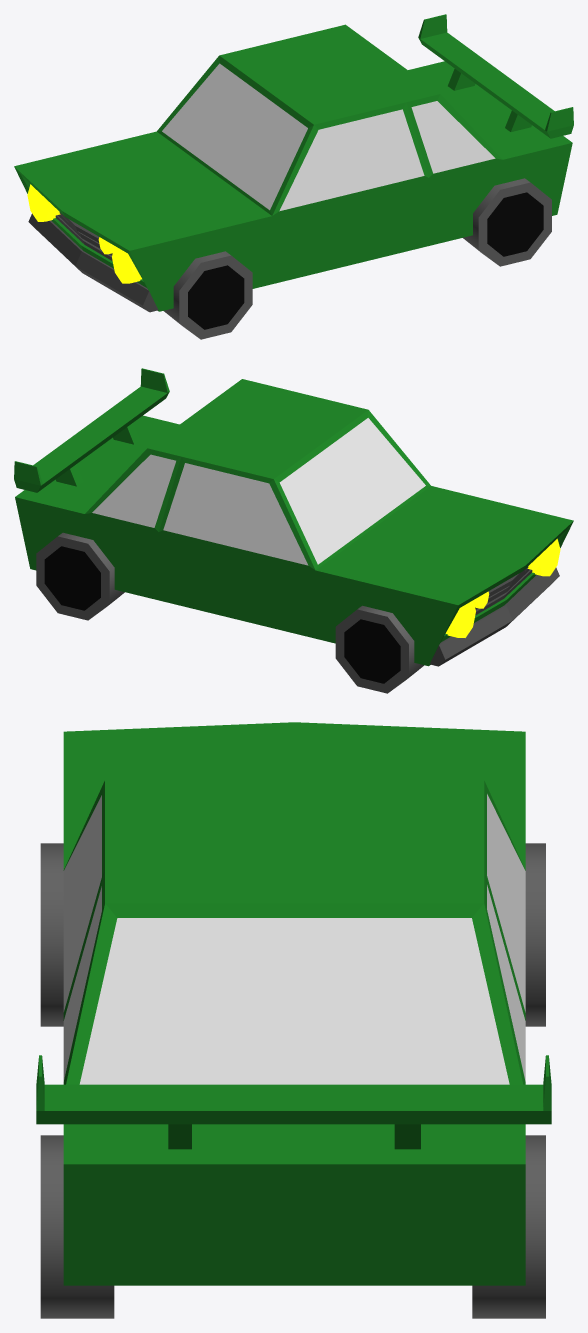
3 views of the same model, one above another, from view 1: azimuth 30°, elevation 25°; view 2: azimuth 150°, elevation 25°; view 3: azimuth 270°, elevation 25° (orthographic). The views are drawn at different scales.
Parts seen in each view (by area): view 1: Cube.001, Cylinder.005, Cube.002, Cylinder.002; view 2: Cube.001, Cylinder.005, Cube.002, Cylinder.002; view 3: Cube.001, Cube.002, Cylinder.005.
Boxes of the visible parts, x1,y1,x2,y2 form: Cube.001: (14, 24, 572, 312); Cylinder.005: (163, 178, 551, 339); Cube.002: (418, 14, 573, 138); Cylinder.002: (27, 184, 141, 283); Cube.001: (15, 379, 573, 666); Cylinder.005: (36, 532, 423, 693); Cube.002: (14, 368, 169, 492); Cylinder.002: (445, 538, 560, 637); Cube.001: (63, 722, 525, 1285); Cube.002: (36, 1055, 551, 1149); Cylinder.005: (40, 843, 545, 1318).
Size of the model in its own units: 265 by 95.93 by 131.
